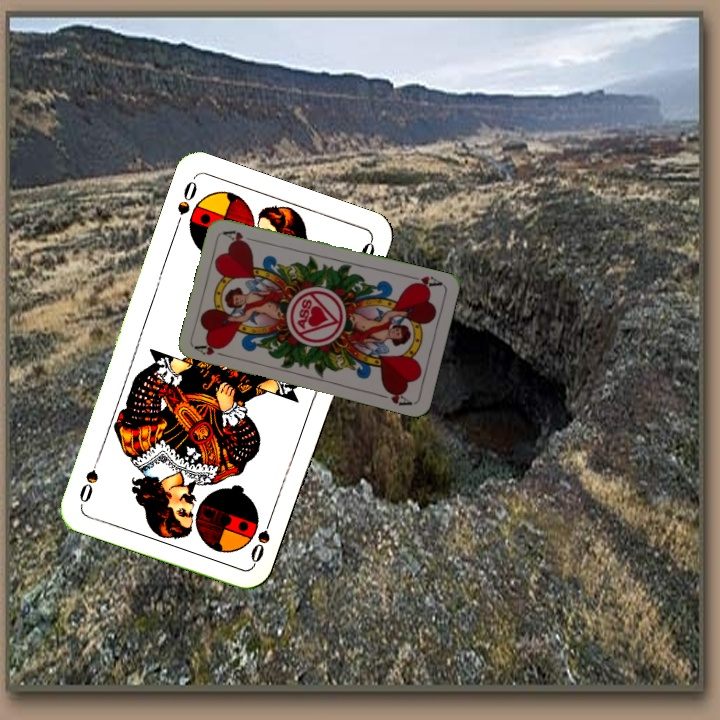HA: (192, 340, 232, 360), (404, 272, 445, 291)
SO: (246, 509, 276, 566), (171, 175, 200, 232)
